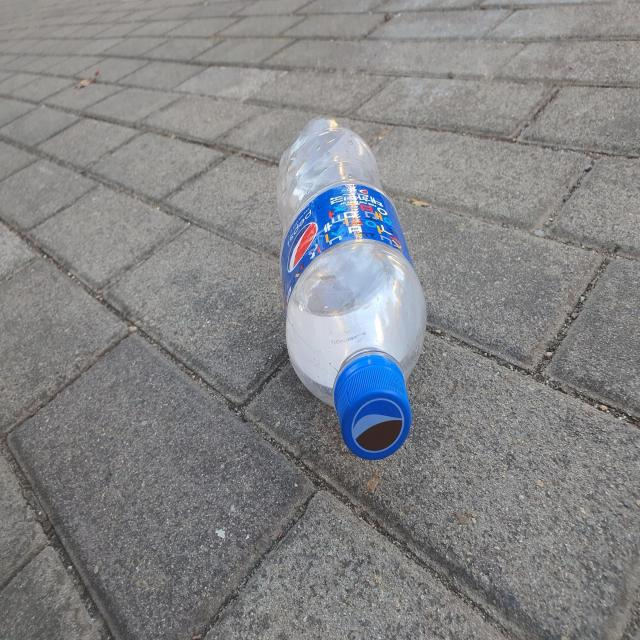plastic: (277, 116, 427, 460)
